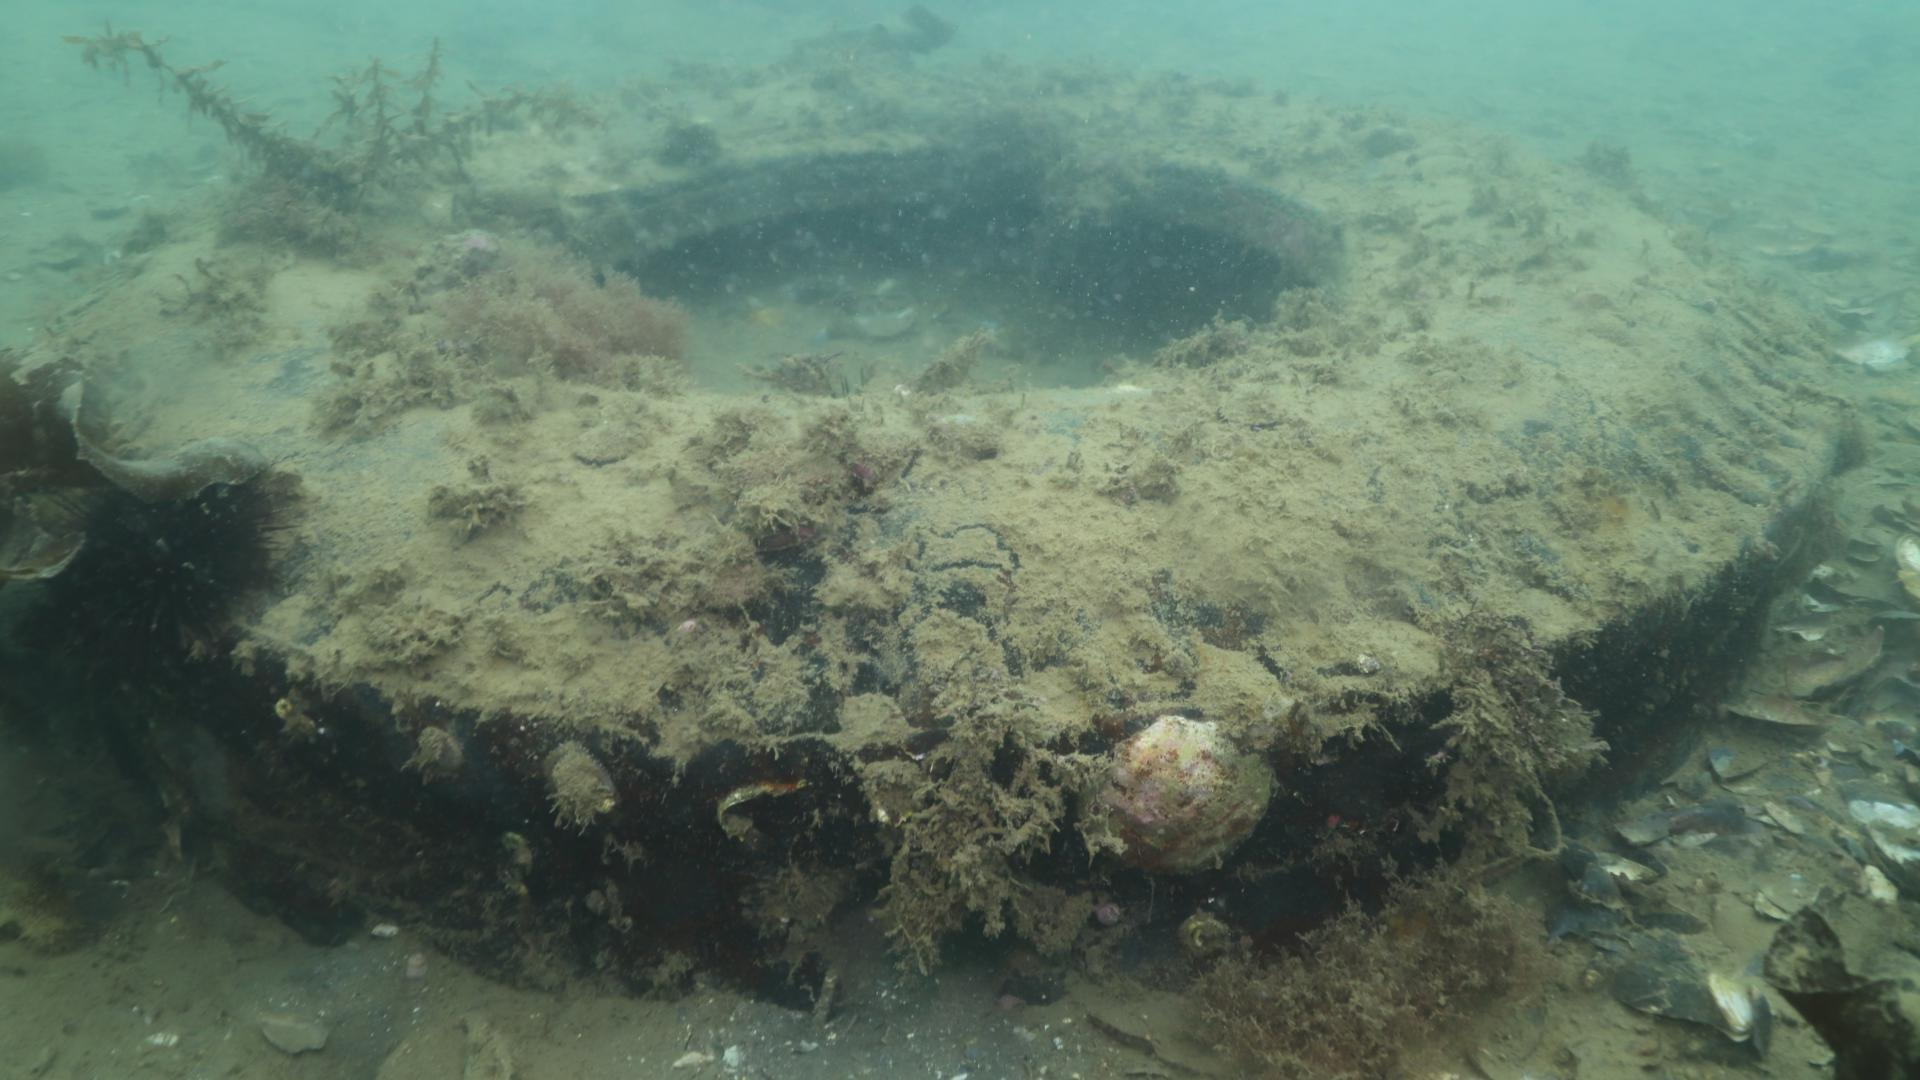tire: (69, 54, 1853, 948)
